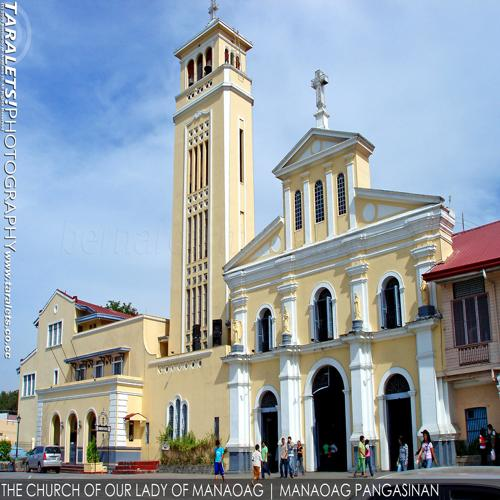Manaoag Church: (156, 4, 457, 474)
